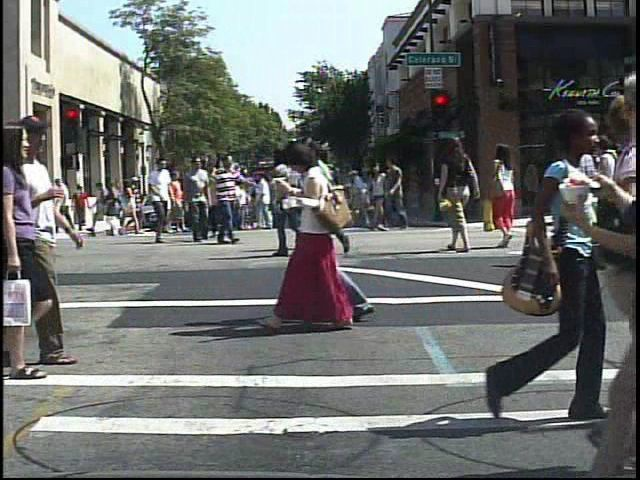person: (19, 107, 94, 369), (270, 136, 358, 337), (304, 129, 380, 329), (1, 118, 57, 383), (558, 118, 599, 270), (268, 135, 314, 264), (592, 132, 632, 275), (434, 134, 480, 248), (483, 141, 528, 257), (312, 150, 357, 260), (289, 141, 332, 251), (207, 152, 245, 246), (182, 155, 218, 248), (582, 146, 614, 245), (143, 154, 175, 246), (124, 173, 146, 241), (73, 182, 93, 231)
